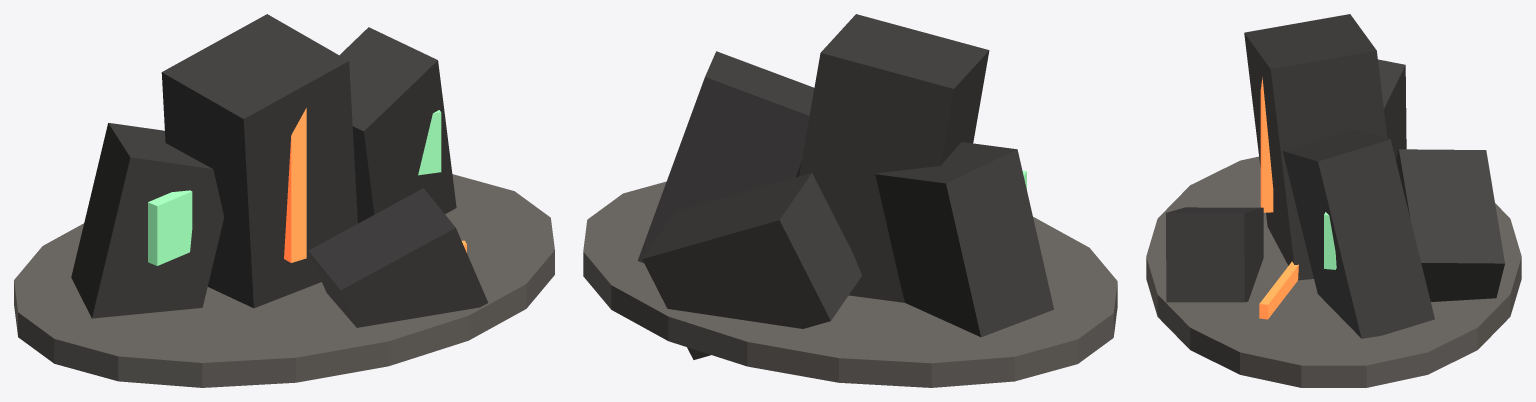
Rendered from mordor_rock_cluster_proxy.glb.
3 renders of one model, left to right at view 1: azimuth 30°, elevation 25°; view 2: azimuth 150°, elevation 25°; view 3: azimuth 270°, elevation 25°, orthographic. The views are drawn at different scales.
Parts seen in each view (by area): view 1: Ash_Ground_Patch, Basalt_Main_Shard, Basalt_Left_Shard, Basalt_Front_Rubble, Basalt_Right_Shard, Morgul_Lichen_Left, Ember_Crack_Main, Morgul_Lichen_Right; view 2: Ash_Ground_Patch, Basalt_Main_Shard, Basalt_Left_Shard, Basalt_Back_Rubble, Basalt_Right_Shard; view 3: Ash_Ground_Patch, Basalt_Right_Shard, Basalt_Main_Shard, Basalt_Back_Rubble, Basalt_Front_Rubble, Basalt_Left_Shard, Ember_Crack_Main, Ember_Crack_Ground, Morgul_Lichen_Right.
Part boxes in pixels (left/top/right/bottom): Ash_Ground_Patch: left=14, top=174, right=554, bottom=387; Basalt_Main_Shard: left=161, top=14, right=357, bottom=308; Basalt_Left_Shard: left=71, top=123, right=224, bottom=318; Basalt_Front_Rubble: left=308, top=188, right=488, bottom=327; Basalt_Right_Shard: left=339, top=27, right=456, bottom=223; Morgul_Lichen_Left: left=148, top=190, right=192, bottom=265; Ember_Crack_Main: left=284, top=108, right=306, bottom=262; Morgul_Lichen_Right: left=418, top=110, right=441, bottom=175; Ash_Ground_Patch: left=583, top=181, right=1117, bottom=387; Basalt_Main_Shard: left=799, top=14, right=989, bottom=302; Basalt_Left_Shard: left=875, top=142, right=1053, bottom=337; Basalt_Back_Rubble: left=642, top=173, right=861, bottom=359; Basalt_Right_Shard: left=637, top=51, right=814, bottom=262; Ash_Ground_Patch: left=1146, top=156, right=1521, bottom=387; Basalt_Right_Shard: left=1282, top=128, right=1434, bottom=338; Basalt_Main_Shard: left=1244, top=14, right=1387, bottom=280; Basalt_Back_Rubble: left=1396, top=149, right=1504, bottom=301; Basalt_Front_Rubble: left=1166, top=207, right=1263, bottom=302; Basalt_Left_Shard: left=1378, top=59, right=1406, bottom=159; Ember_Crack_Main: left=1260, top=77, right=1273, bottom=212; Ember_Crack_Ground: left=1259, top=261, right=1298, bottom=319; Morgul_Lichen_Right: left=1324, top=212, right=1336, bottom=269.
Bounding box in the file's own units: 1.04 × 0.5654 × 0.7568.
